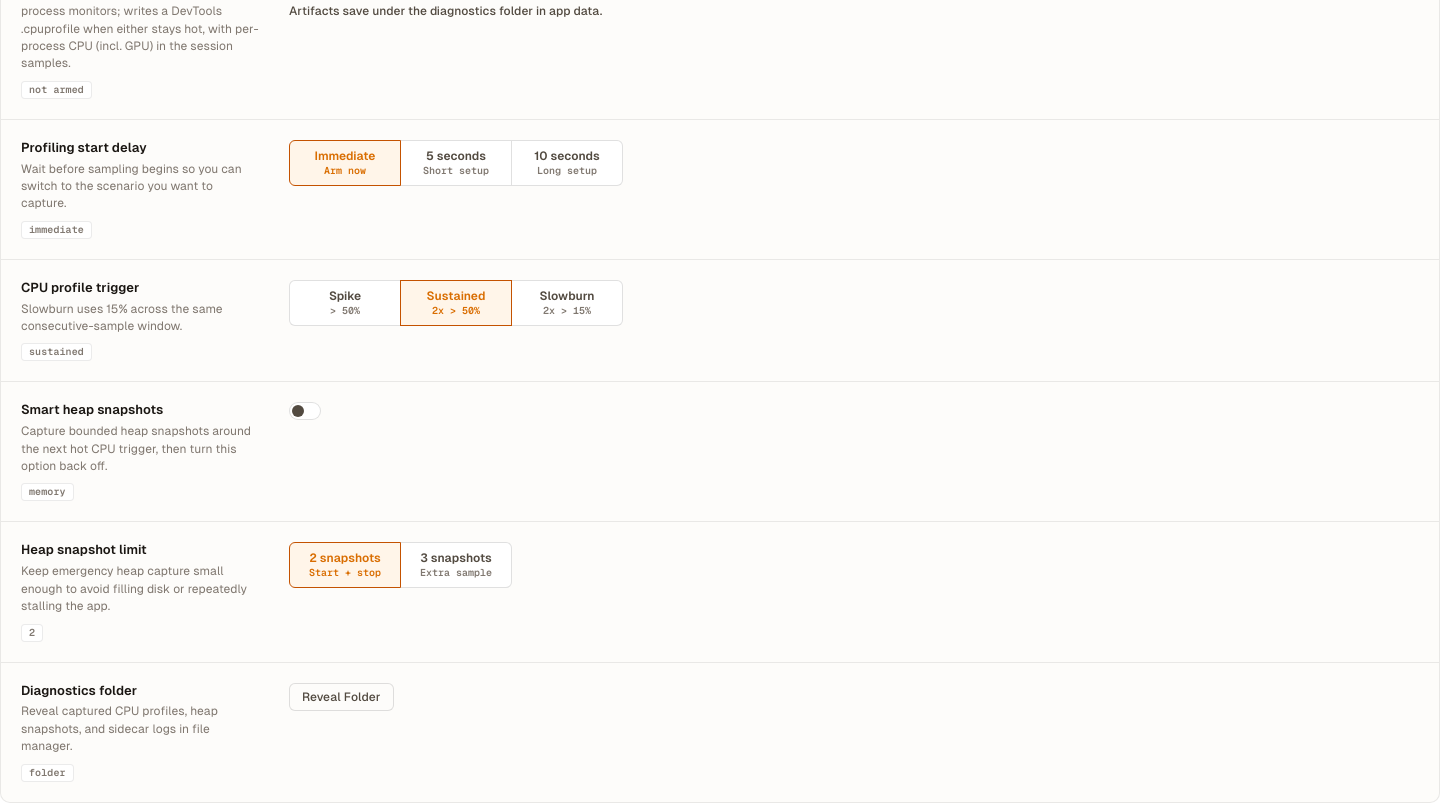
Test case: DeveloperPage › shows reveal failures without changing profiler settings
(page scrolled)
Step 1. Click the button "Reveal Folder" → (341, 696), box [289,682,394,710]
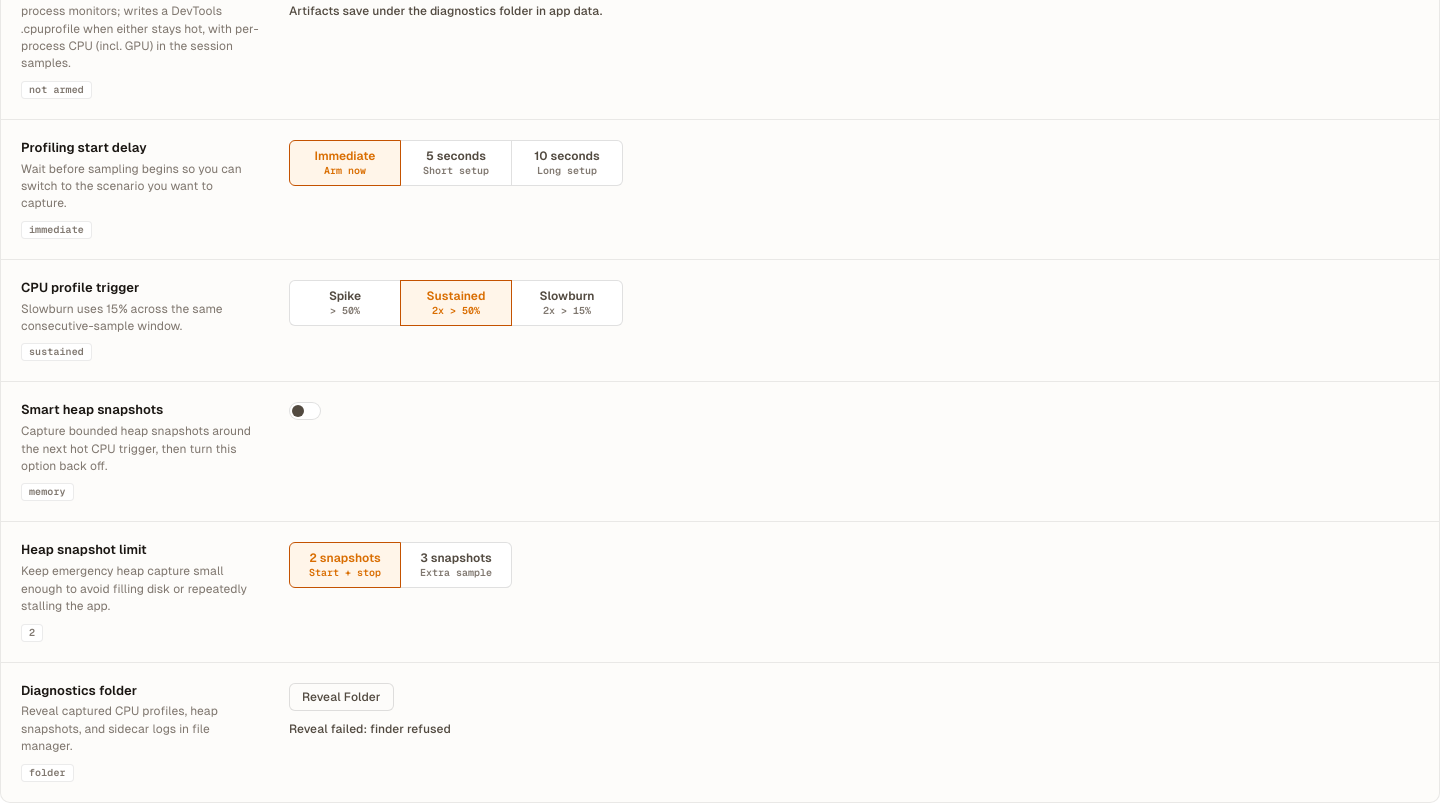
Check: the text "Reveal failed: finder refused" is shown, box [289,720,451,737]
